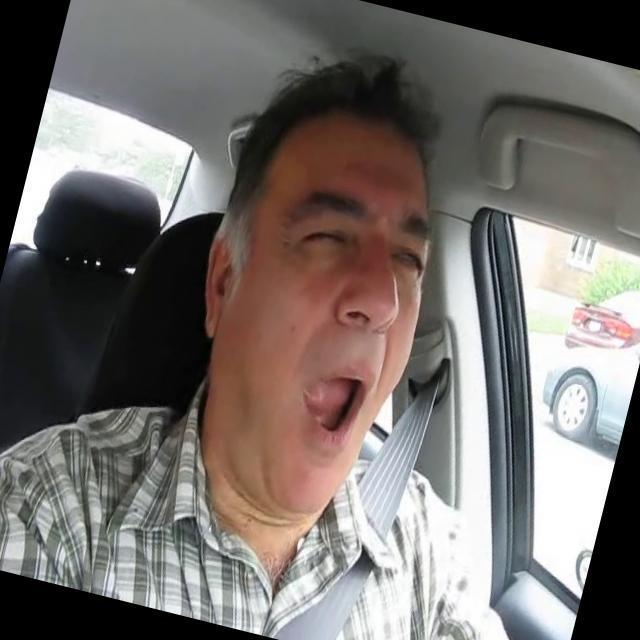open-mouth: (300, 361, 366, 454)
